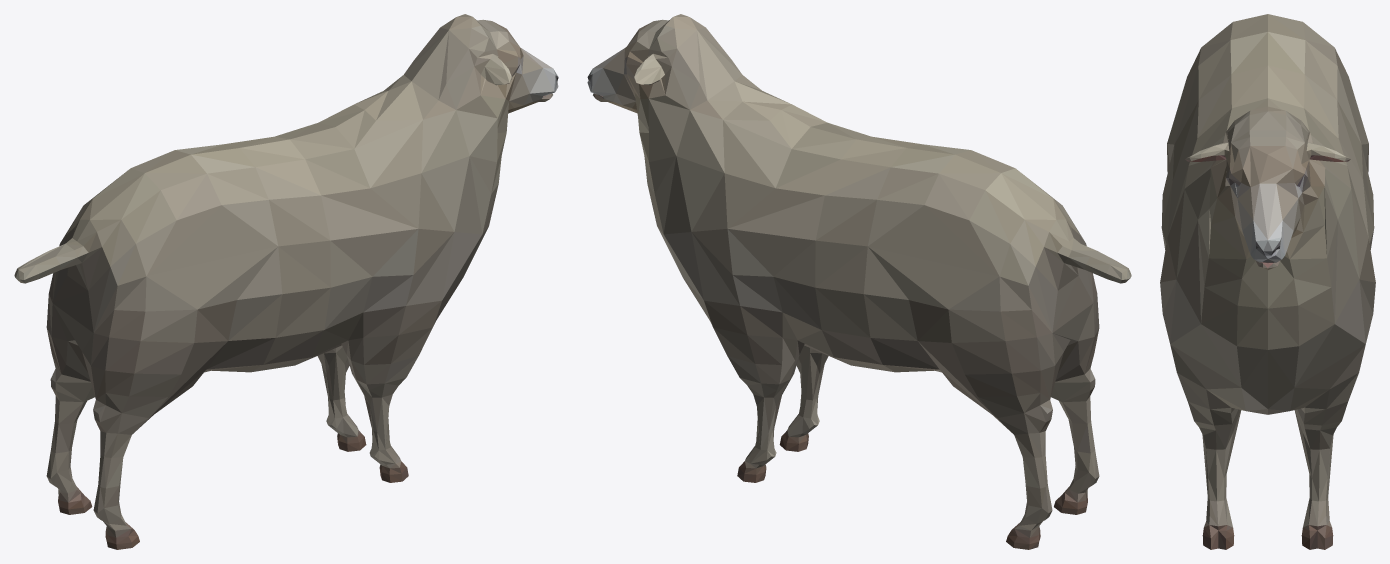
Rendered from sheep.glb.
The picture shows the model from 3 angles, left to right: view 1: azimuth 30°, elevation 25°; view 2: azimuth 150°, elevation 25°; view 3: azimuth 270°, elevation 25°; orthographic projection. The views are drawn at different scales.
Parts seen in each view (by area): view 1: BSJZYSOYYZT1ZPX6BJXRNW3KW; view 2: BSJZYSOYYZT1ZPX6BJXRNW3KW; view 3: BSJZYSOYYZT1ZPX6BJXRNW3KW.
Part boxes in pixels (x1,y1,x2,y2): BSJZYSOYYZT1ZPX6BJXRNW3KW: (14, 14, 558, 549); BSJZYSOYYZT1ZPX6BJXRNW3KW: (587, 14, 1131, 549); BSJZYSOYYZT1ZPX6BJXRNW3KW: (1160, 14, 1375, 549).
Bounding box in the file's own units: 7.99 × 5.93 × 2.37.
